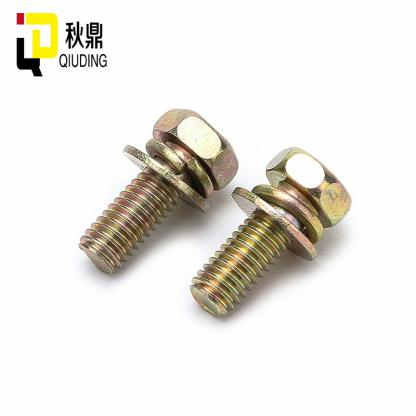FOD: (76, 107, 240, 282), (189, 145, 354, 318)
